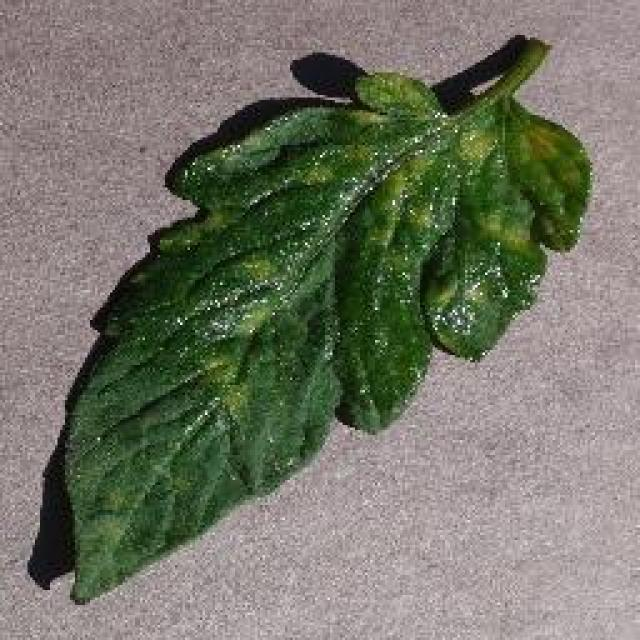Tomato___Leaf_Mold: (65, 40, 590, 598)
